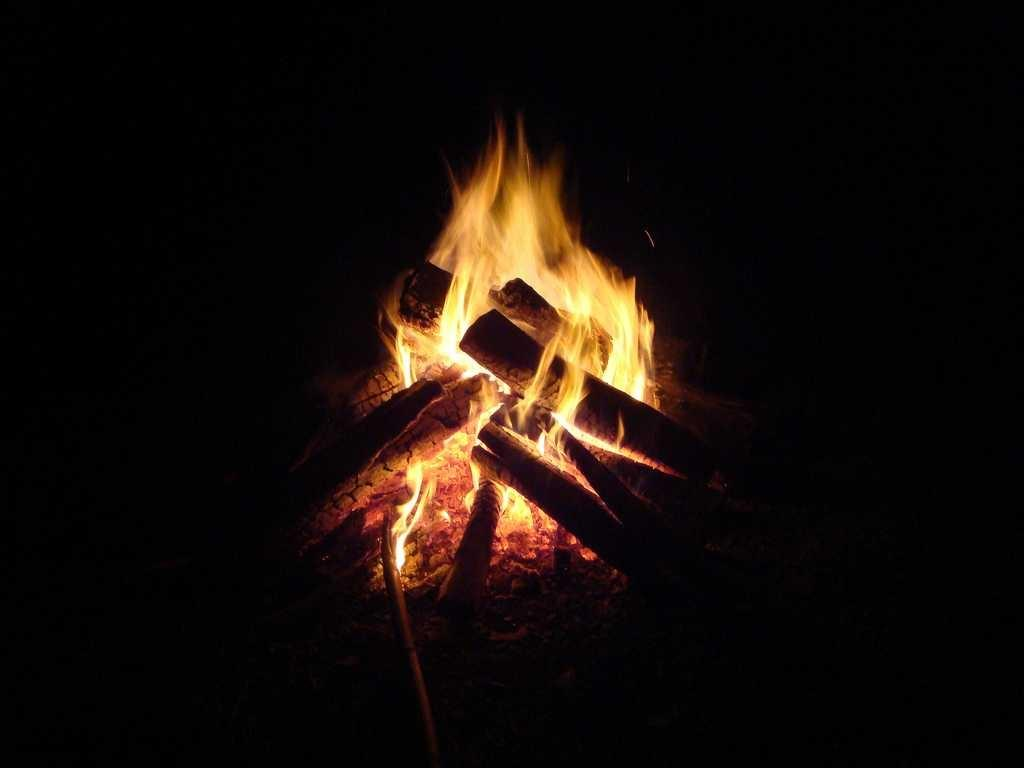fire: (452, 200, 566, 286), (576, 262, 638, 392), (394, 318, 458, 386)
